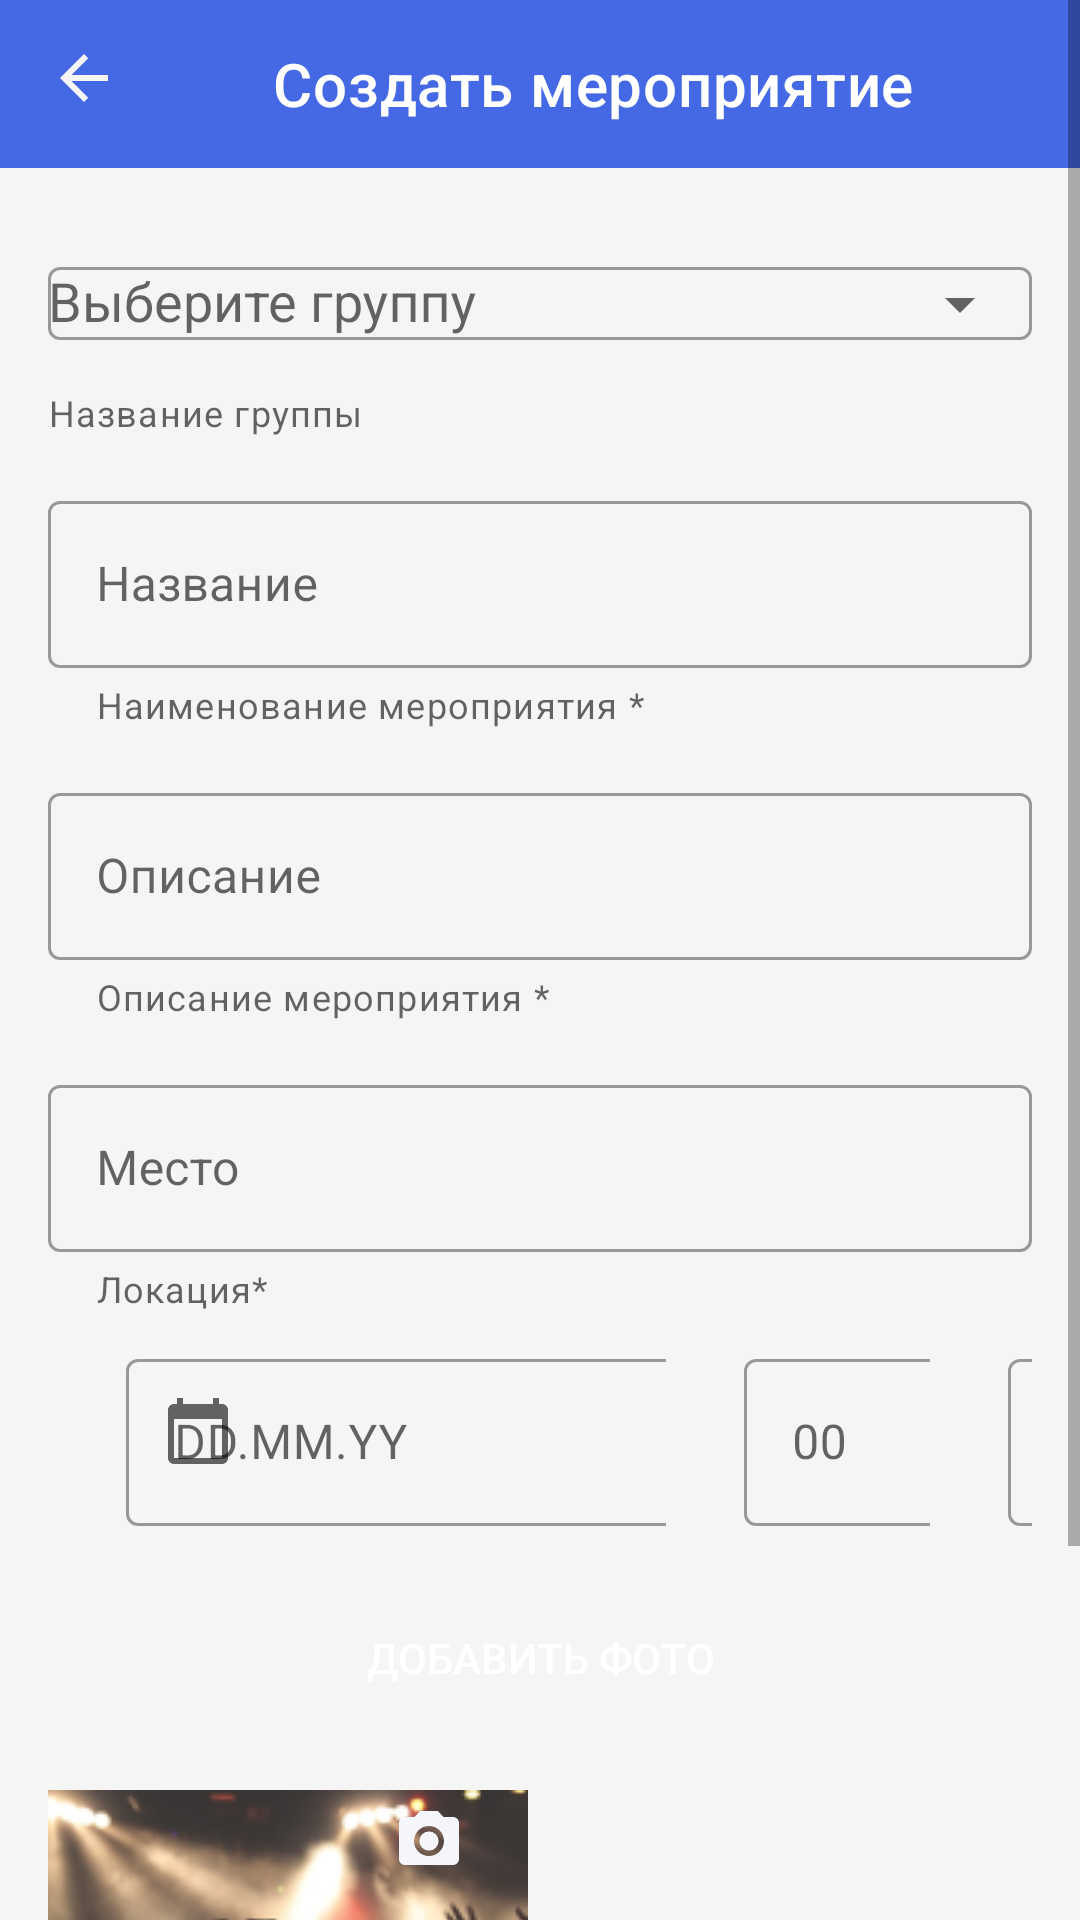

Where to tap for icons on this 1080x1920 app screen, as [x,y]:
arrow back: [84,78]
photo camera: [429,1841]
